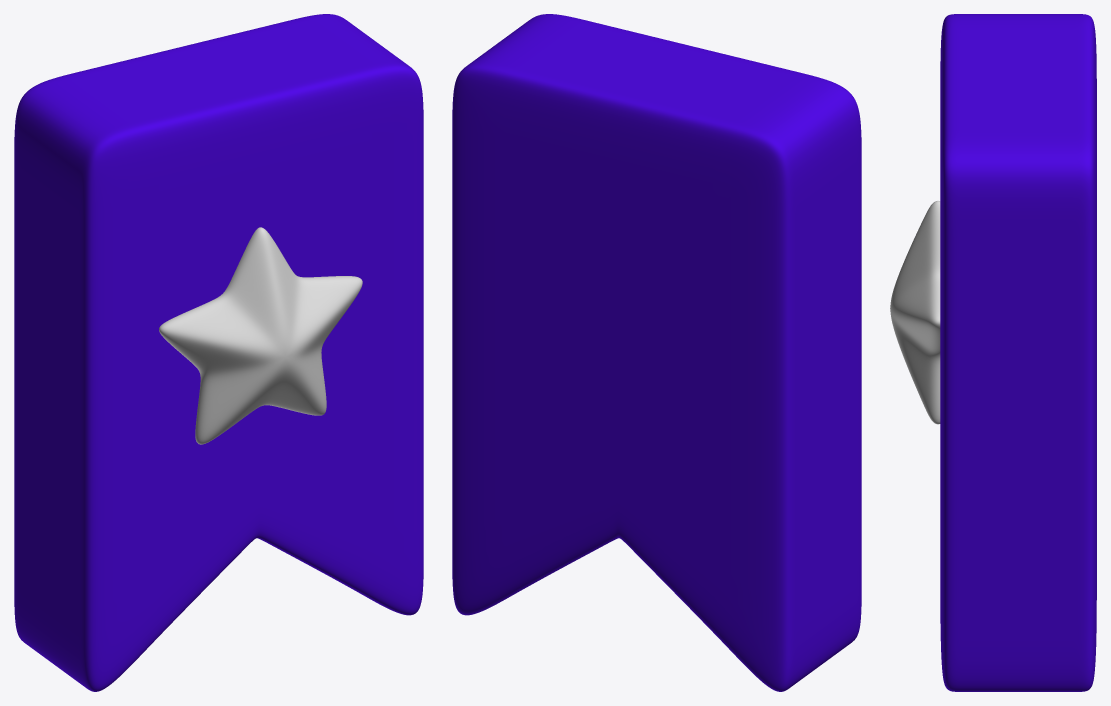
Rendered from bookmark-fav.glb.
The picture shows the model from 3 angles, left to right: view 1: azimuth 30°, elevation 25°; view 2: azimuth 150°, elevation 25°; view 3: azimuth 270°, elevation 25°; orthographic projection. The views are drawn at different scales.
Visible parts, largest first — view 1: Bookmark Star; view 2: Bookmark Star; view 3: Bookmark Star.
Boxes of the visible parts, <box> form: Bookmark Star: <box>14,14,423,691</box>; Bookmark Star: <box>452,14,861,691</box>; Bookmark Star: <box>890,14,1096,691</box>.
Size of the model in its own units: 1.18 by 1.85 by 0.648.
